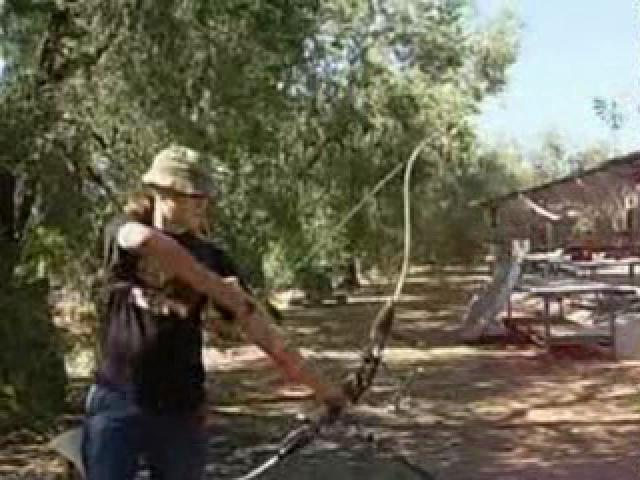I: (68, 135, 370, 480)
